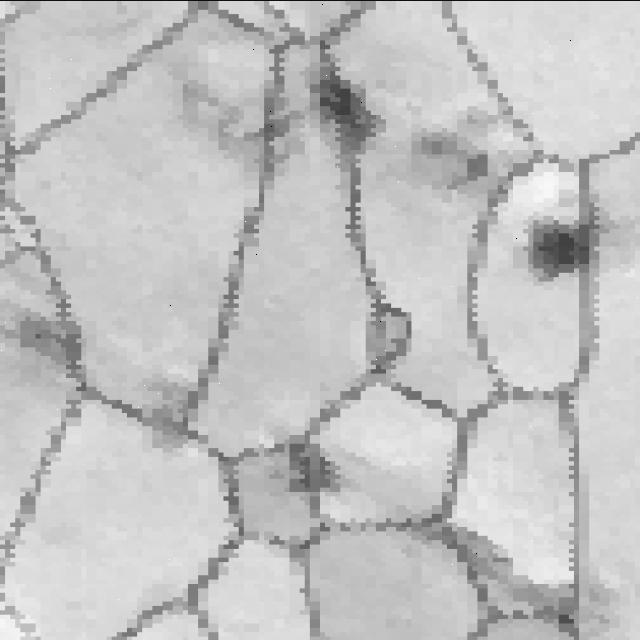good_void: (180, 88, 304, 177), (415, 100, 505, 191), (13, 305, 94, 381), (130, 378, 203, 460), (314, 77, 386, 151), (440, 523, 518, 588), (274, 428, 346, 498), (524, 216, 597, 281), (547, 604, 583, 635)
